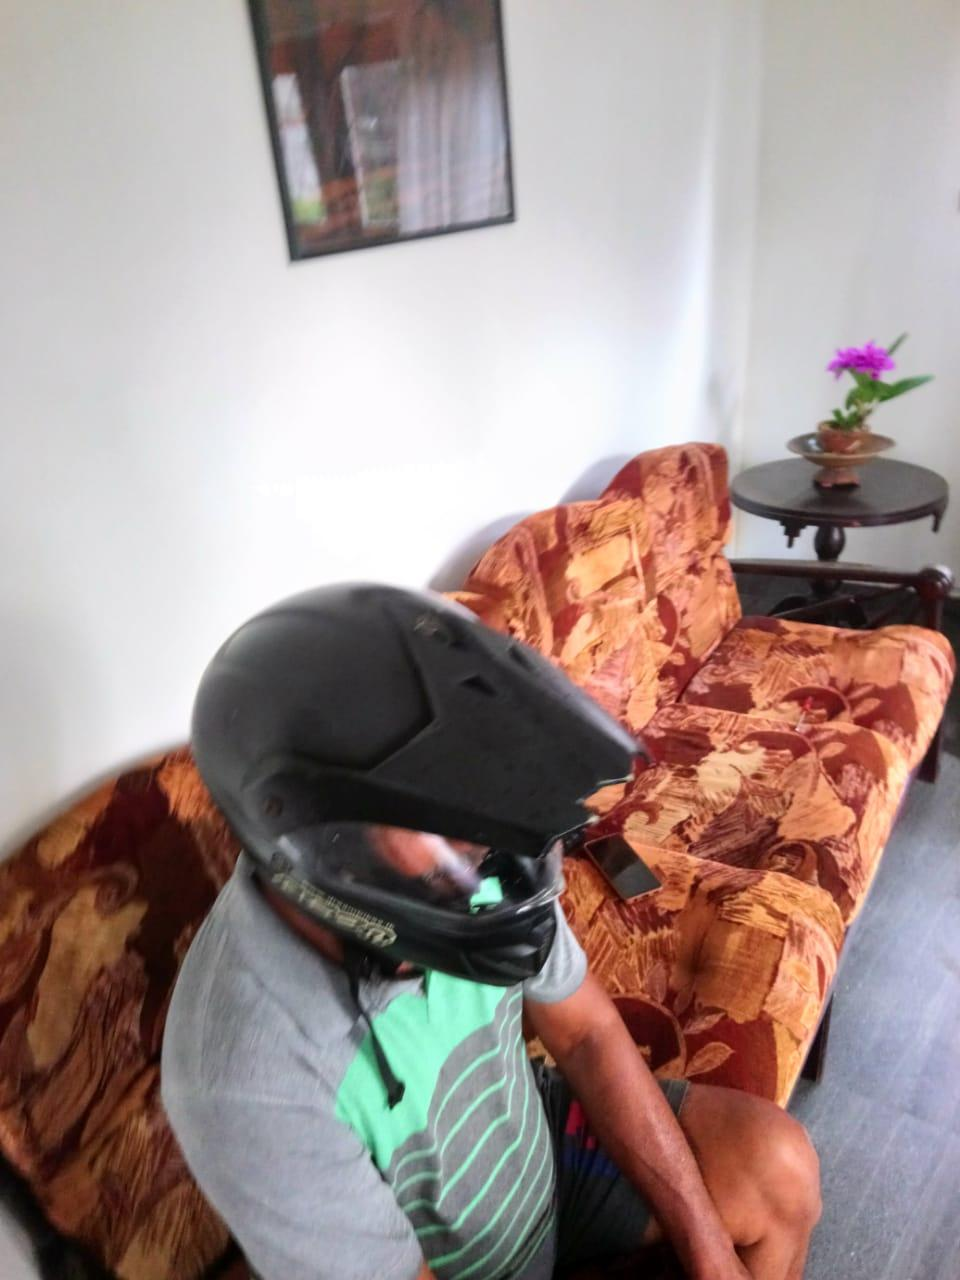helmet: (192, 579, 636, 984)
